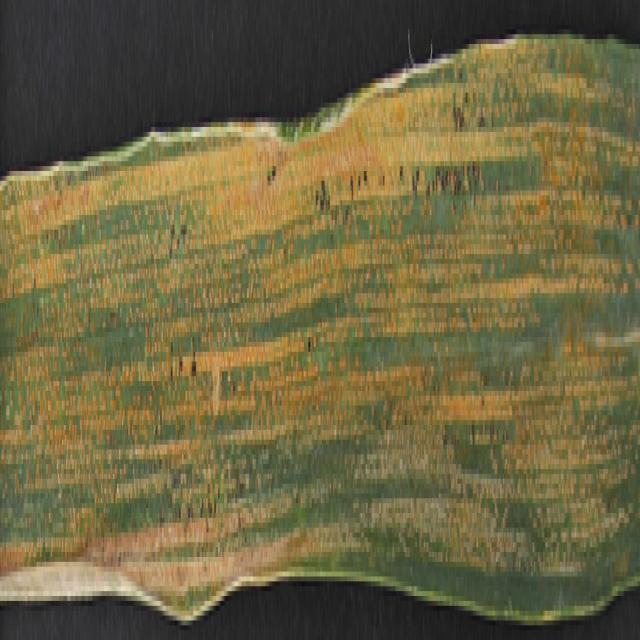leaf rust: (0, 39, 640, 620)
